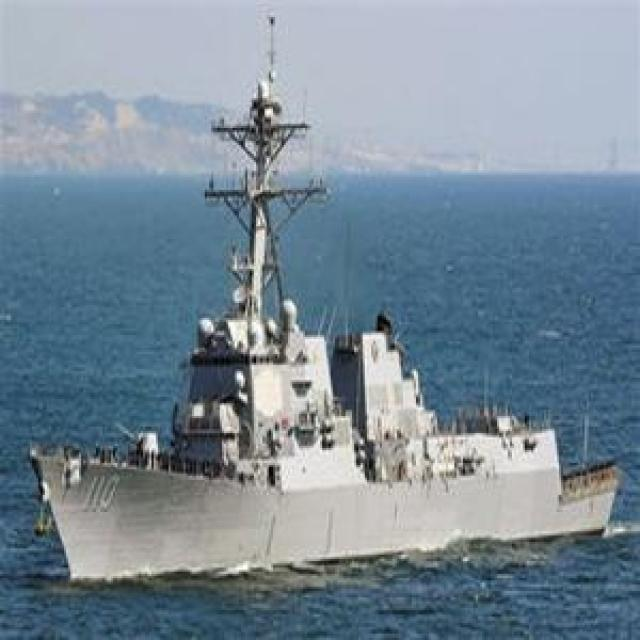navalvessels: (27, 96, 626, 567)
